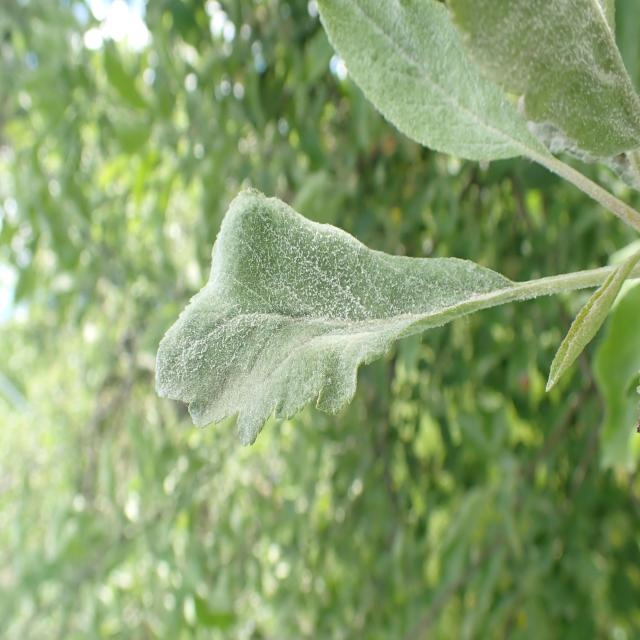Powdery_mildew: (149, 181, 514, 444), (316, 0, 582, 195), (452, 0, 639, 194), (543, 239, 640, 403)
